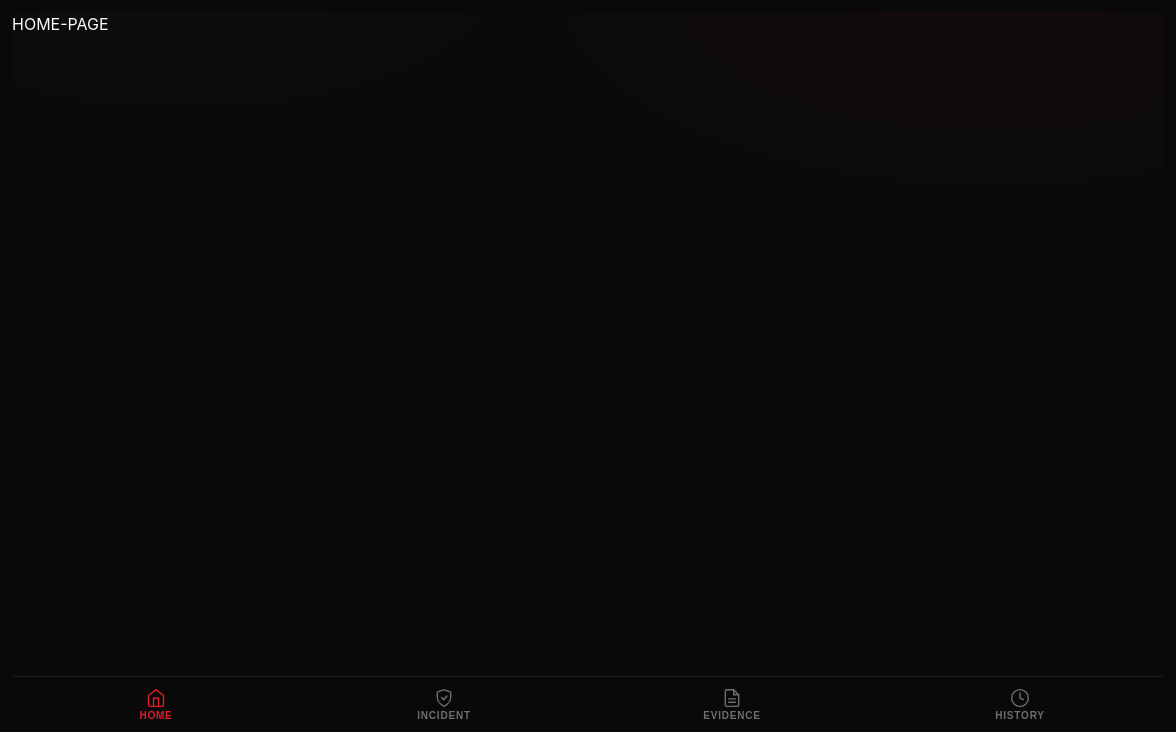
Test: BottomNav - Reachable destinations › navigates to Evidence
Click the button "Evidence".
click(732, 704)  # box [588,677,876,731]
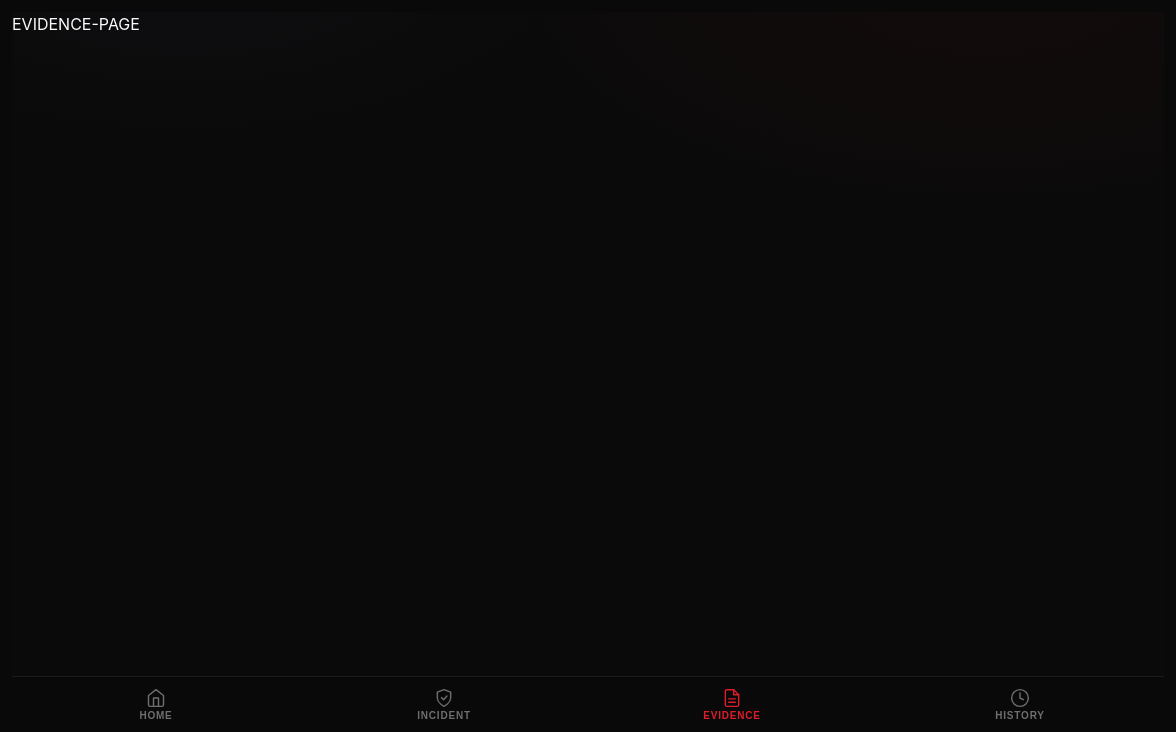
Expected: the text "EVIDENCE-PAGE" is shown, [12,14,140,34]
